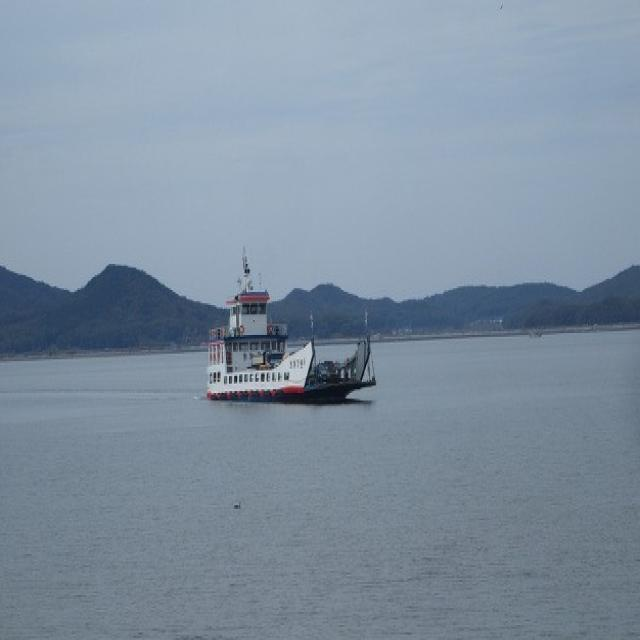cargoship: (206, 262, 359, 416)
